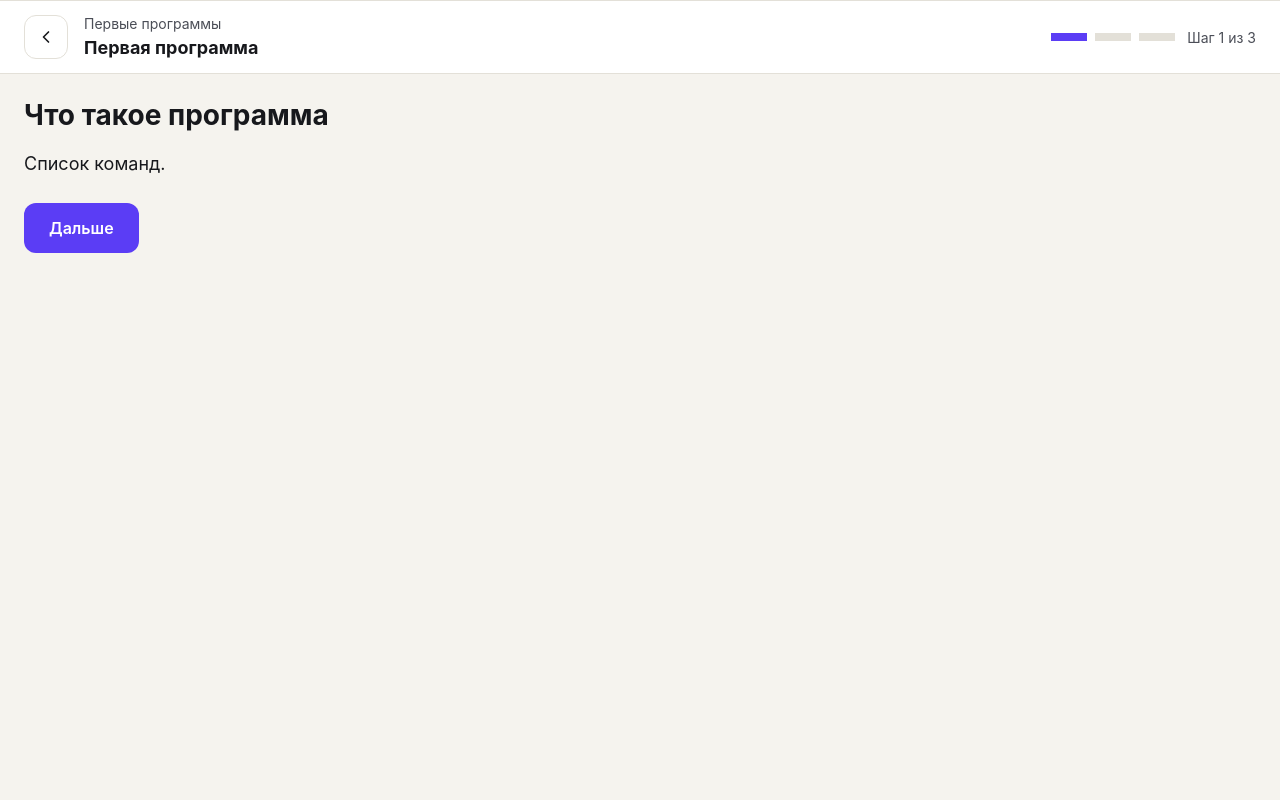
LessonView › «Дальше» переводит на следующий шаг через адрес и отмечает пройденный
Click the button "Дальше" at point(81, 228), box [24,203,139,253]
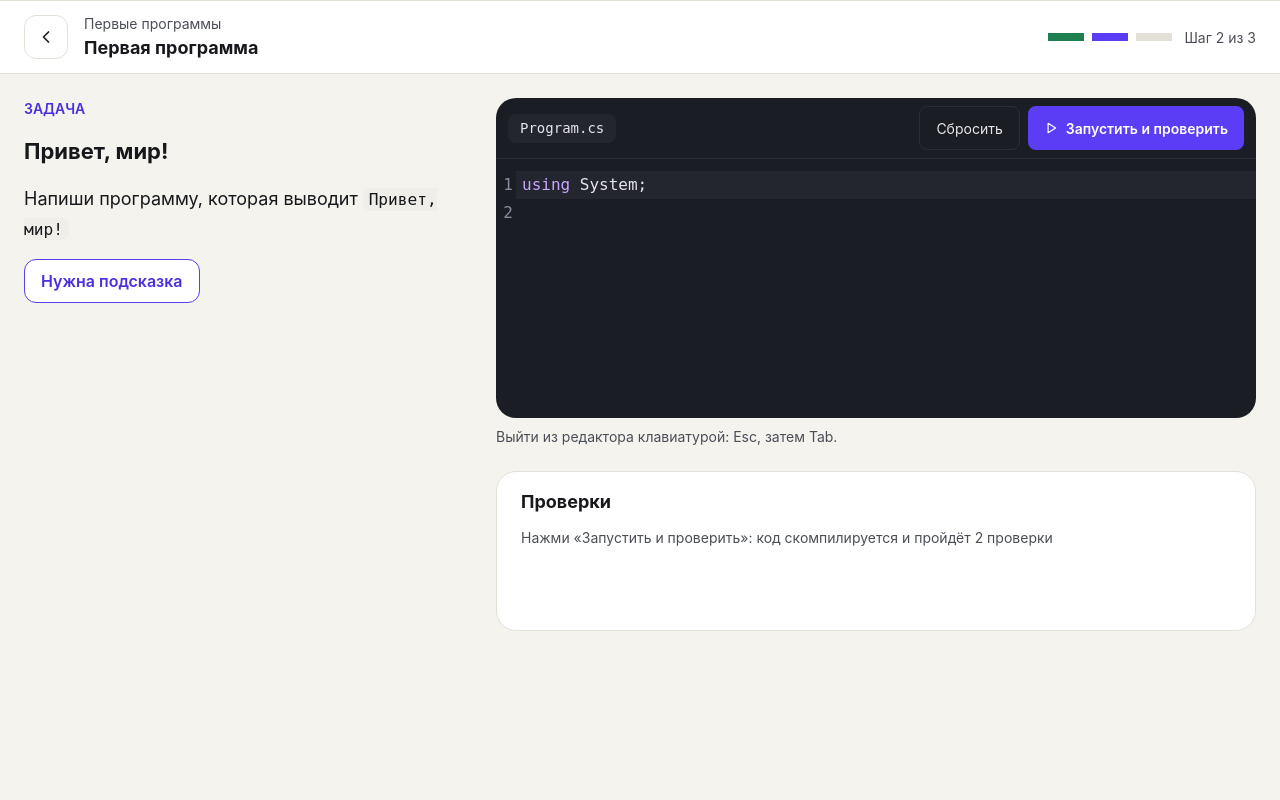
Expected: the text "Привет, мир!" is shown, [24,138,168,164]
Expected: the button with class "lesson__step--done" is shown, [1044,15,1088,59]
